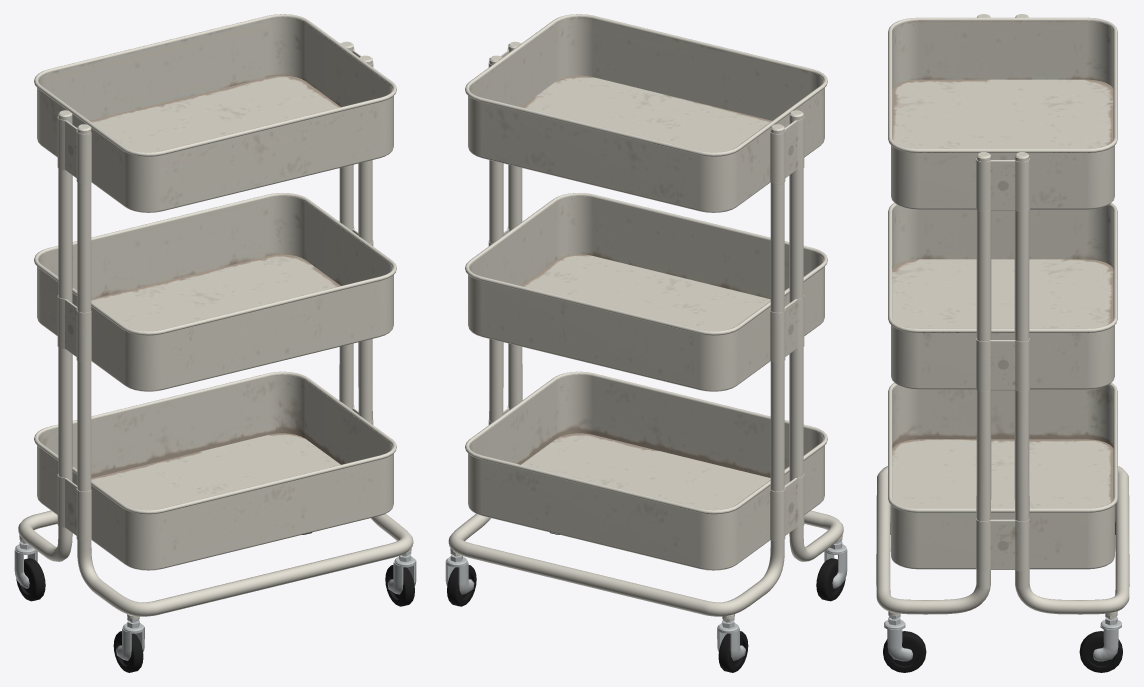
The model's file is ikea_cart.glb.
The picture shows the model from 3 angles, left to right: view 1: azimuth 30°, elevation 25°; view 2: azimuth 150°, elevation 25°; view 3: azimuth 270°, elevation 25°; orthographic projection.
Parts seen in each view (by area): view 1: Object_2; view 2: Object_2; view 3: Object_2.
Part boxes in pixels (<box>): Object_2: <box>14,14,416,672</box>; Object_2: <box>445,14,847,672</box>; Object_2: <box>876,14,1129,672</box>.
Bounding box in the file's own units: 46.53 × 78.29 × 34.44.
Materials: 1 (1 with a texture image).
